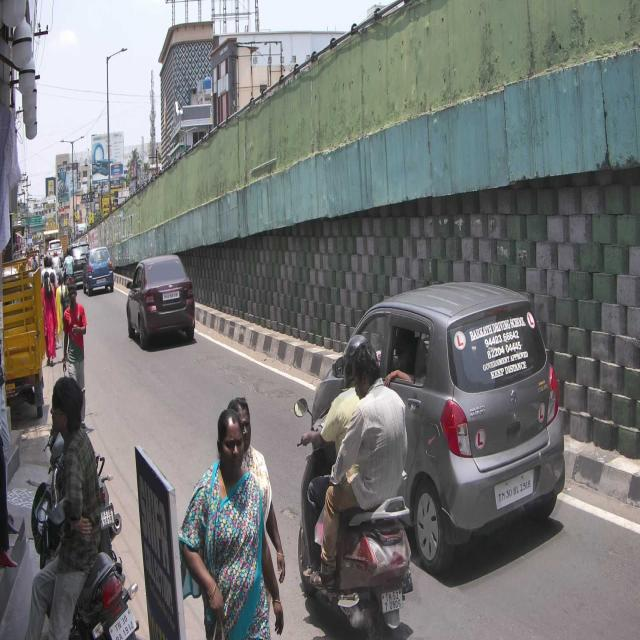double_rider: (292, 329, 415, 640)
